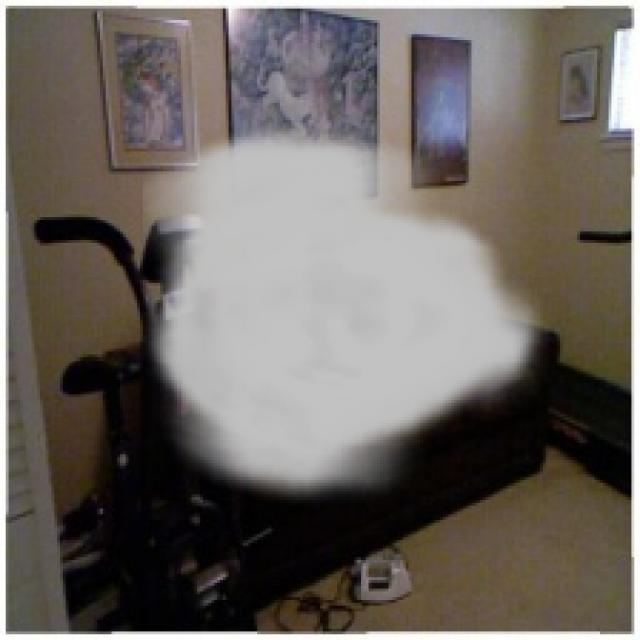smoke: (143, 123, 548, 508)
